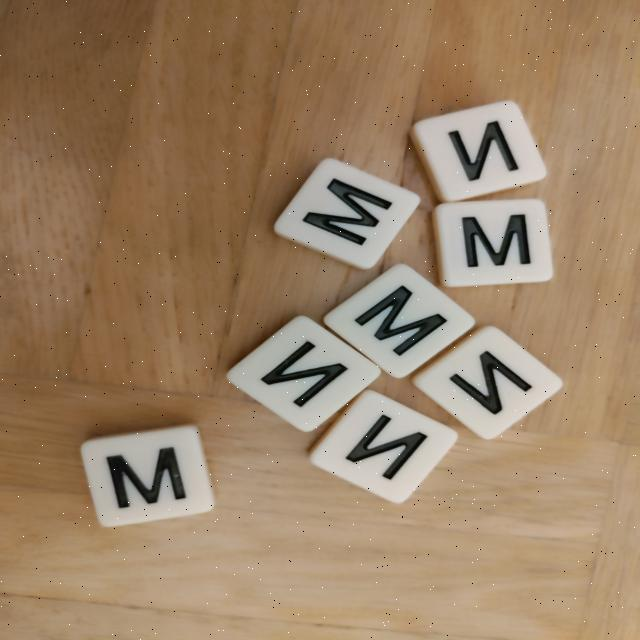m: (318, 261, 480, 382), (269, 155, 424, 272), (78, 423, 216, 529), (432, 198, 556, 289)
n: (222, 311, 386, 435), (303, 386, 463, 506), (409, 321, 568, 441), (403, 98, 550, 204)
